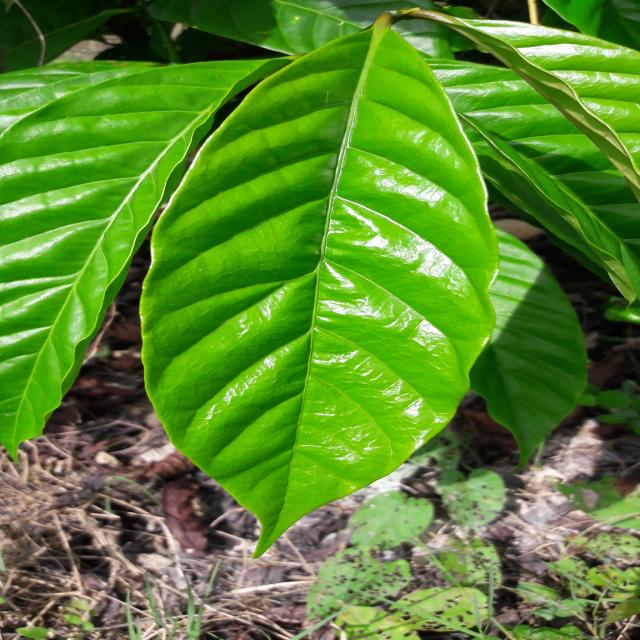Sanas: (138, 27, 497, 555)
